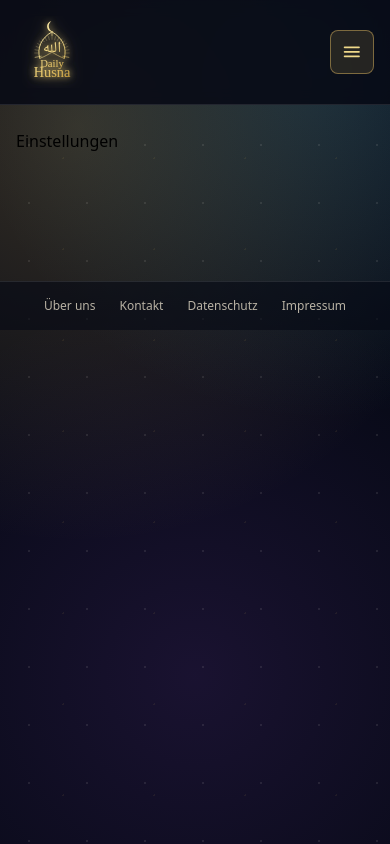
Scenario: AppShell › links to the localized settings route in German navigation
This screenshot has width=390, height=844.
Click the button named "Menü öffnen" at x=352, y=52, box [330,30,374,74]
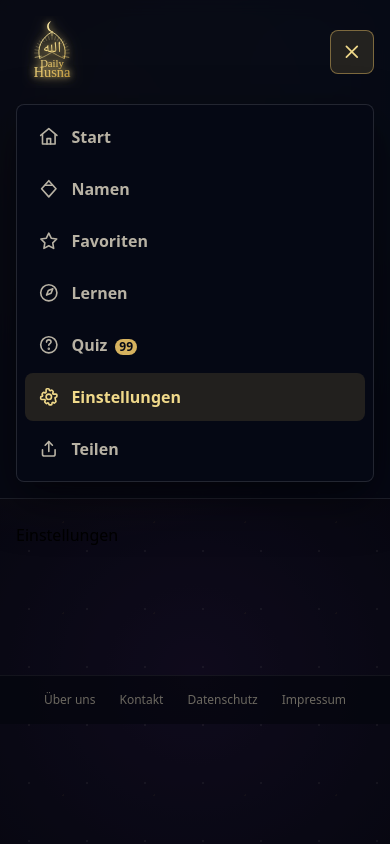
Expected: the number of links "Namen" is 2
Expected: the number of links "Einstellungen" is 2
